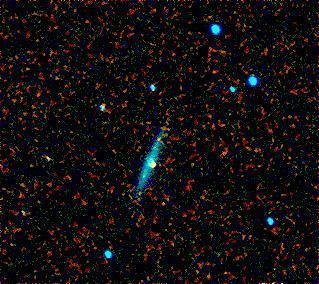star: (139, 149, 169, 179)
